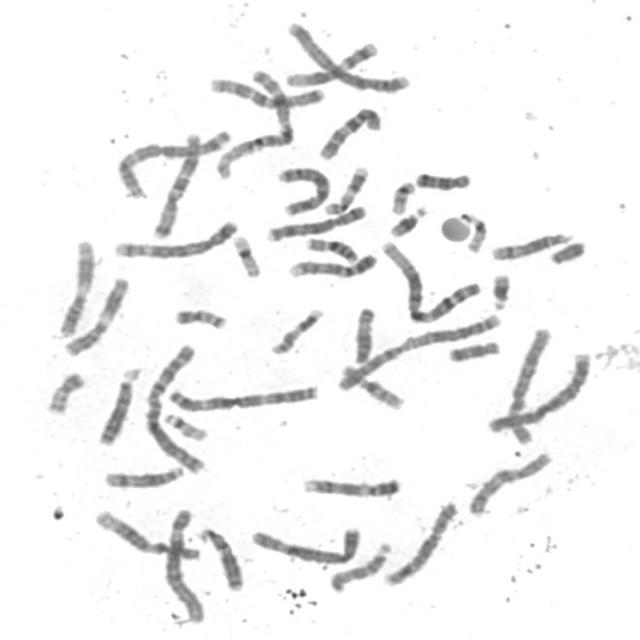A1: (208, 61, 298, 180), (376, 235, 485, 325)
A2: (334, 308, 505, 391), (140, 340, 210, 474)
A3: (112, 124, 234, 200), (162, 378, 323, 414)
B4: (282, 16, 413, 95), (482, 347, 594, 435)
B5: (110, 214, 242, 260), (246, 520, 365, 566)
C10: (464, 446, 556, 518), (314, 101, 386, 161)
C11: (59, 271, 133, 358), (53, 233, 98, 338)
C12: (89, 504, 203, 562), (280, 38, 381, 88)
C6: (502, 322, 556, 446), (161, 502, 208, 624)
C7: (148, 127, 205, 240), (205, 72, 328, 110)
C8: (380, 496, 463, 588), (262, 200, 370, 243)
C9: (298, 470, 405, 500), (283, 248, 381, 280)
D13: (93, 362, 144, 447), (193, 522, 247, 592)
D14: (486, 226, 575, 262), (99, 461, 188, 490)
D15: (325, 537, 395, 594), (348, 301, 378, 366)
E16: (336, 359, 408, 412), (302, 232, 362, 264)
E17: (266, 302, 326, 357), (320, 160, 371, 217)
E18: (443, 335, 504, 364), (410, 165, 474, 192)
F19: (228, 230, 265, 278), (458, 208, 490, 255)
F20: (41, 366, 89, 416), (169, 302, 231, 331)
G21: (384, 200, 431, 240), (486, 268, 514, 312)
G22: (159, 408, 209, 442), (386, 176, 419, 216)
X: (272, 162, 334, 218)
Y: (545, 235, 590, 266)
